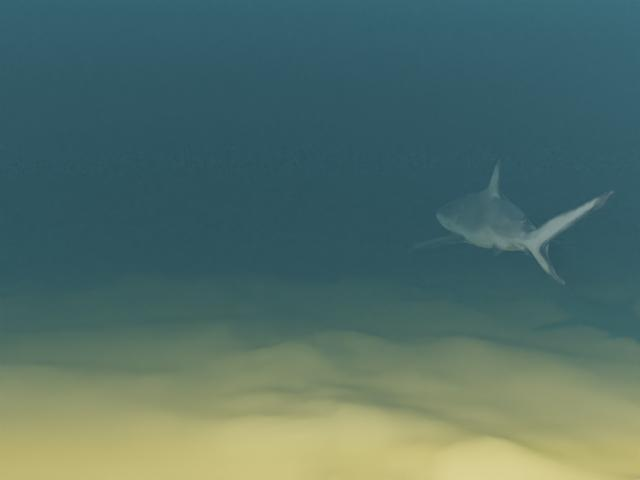Carribean Shark.001: (402, 159, 614, 284)
